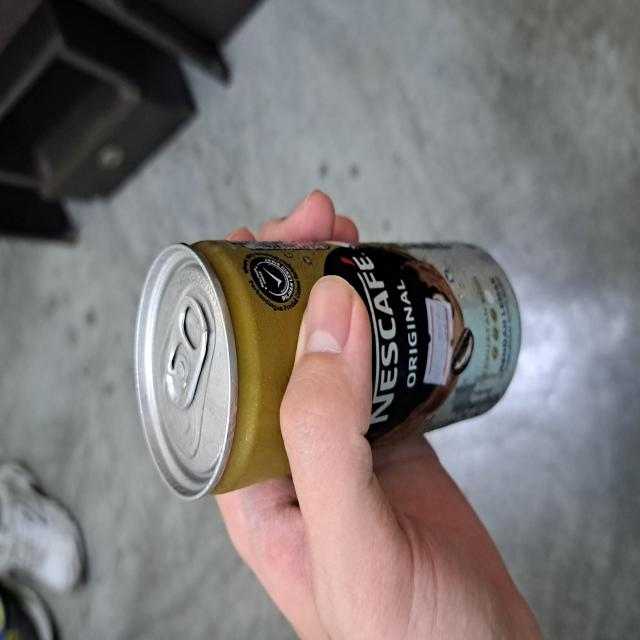can: (133, 242, 522, 498)
pop tab: (165, 289, 214, 411)
